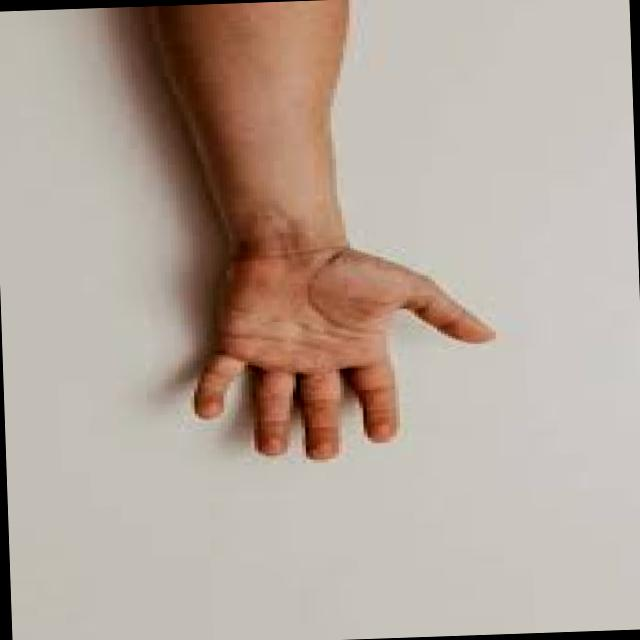Hand: (177, 237, 503, 476)
